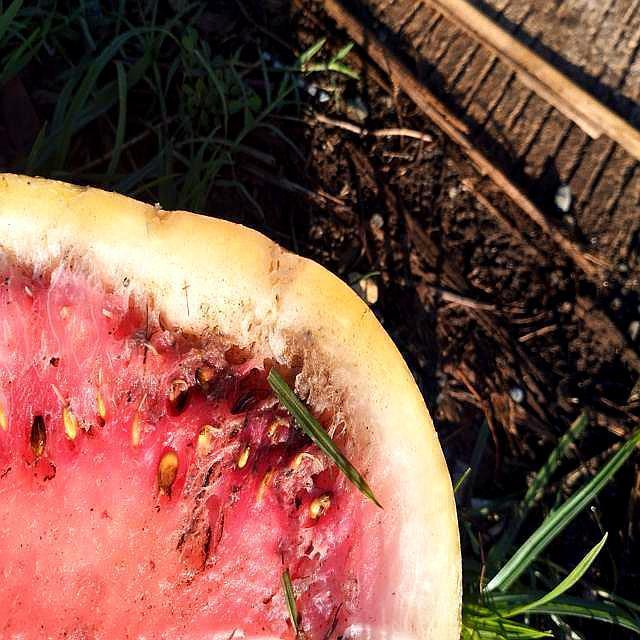Biodegradable: (1, 173, 461, 640)
